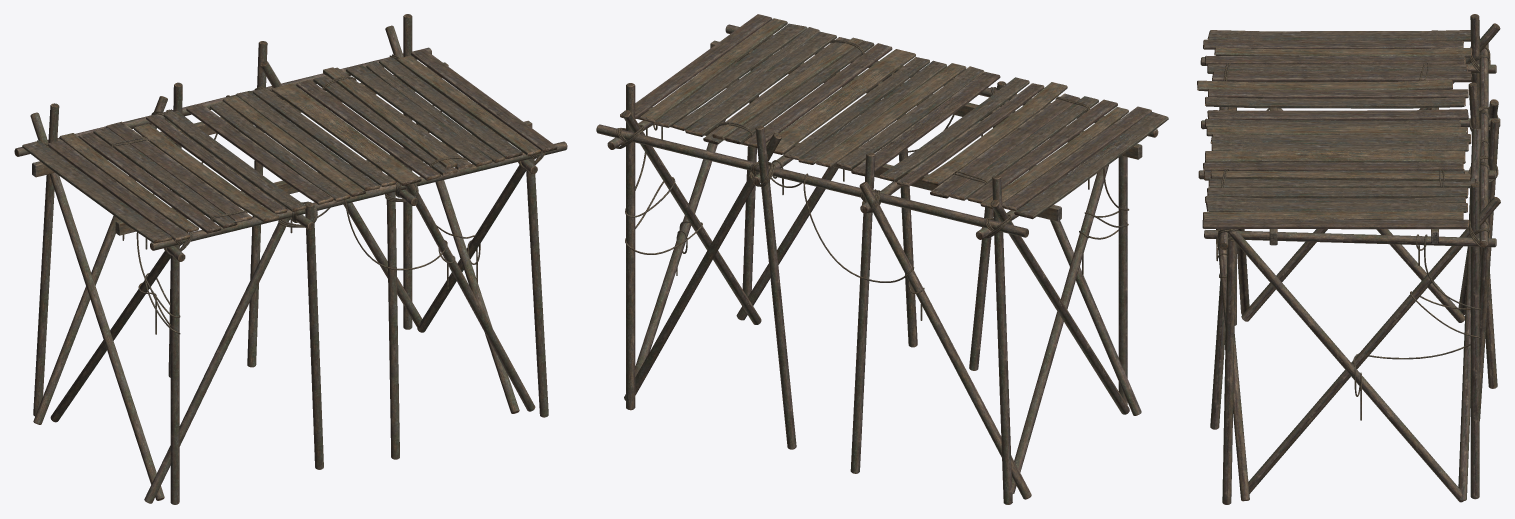
Rendered from SM_Construction_v2_6x9_01.fbx.
3 renders of one model, left to right at view 1: azimuth 30°, elevation 25°; view 2: azimuth 150°, elevation 25°; view 3: azimuth 270°, elevation 25°, orthographic. The views are drawn at different scales.
Parts seen in each view (by area): view 1: SM_Construction_v2_6x9_01_LOD0; view 2: SM_Construction_v2_6x9_01_LOD0; view 3: SM_Construction_v2_6x9_01_LOD0.
Boxes of the visible parts, x1,y1,x2,y2 form: SM_Construction_v2_6x9_01_LOD0: [14, 14, 567, 504]; SM_Construction_v2_6x9_01_LOD0: [596, 14, 1168, 504]; SM_Construction_v2_6x9_01_LOD0: [1197, 14, 1500, 504].
Size of the model in its own units: 933 by 575 by 654.
Materials: 1 (1 with a texture image).
